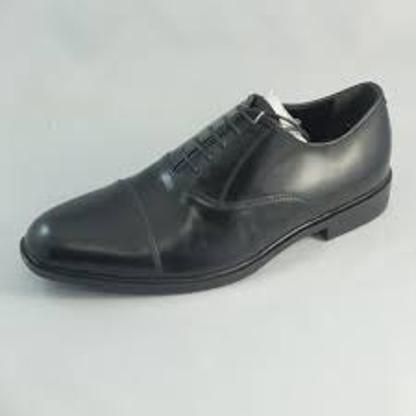not trash: (16, 80, 392, 290)
